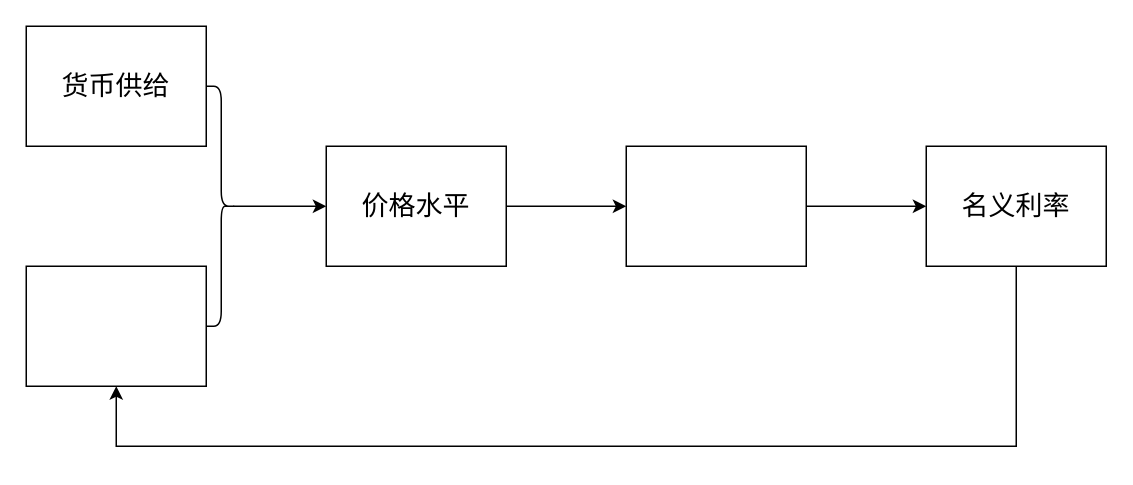
Some shapes in this 1133 by 485 pixel diagram are drawn without their labels. The shapes that lost their labels are listed below. From the top down, each one's centre as x and y in pixels, then its label:
the point at 715,205: 通货膨胀率
the point at 115,325: 货币需求
